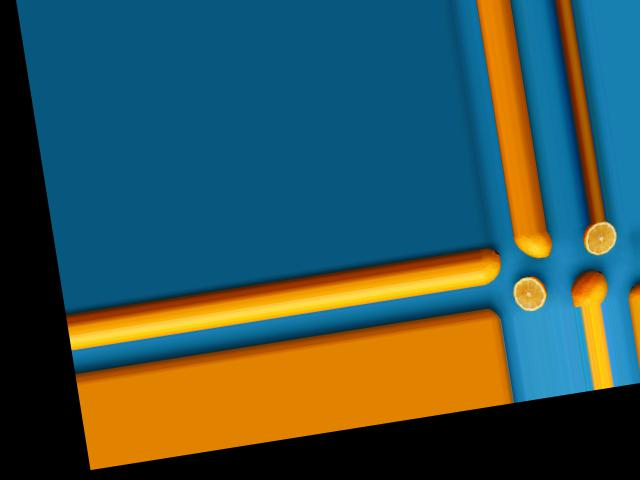lemon: (478, 249, 507, 287)
